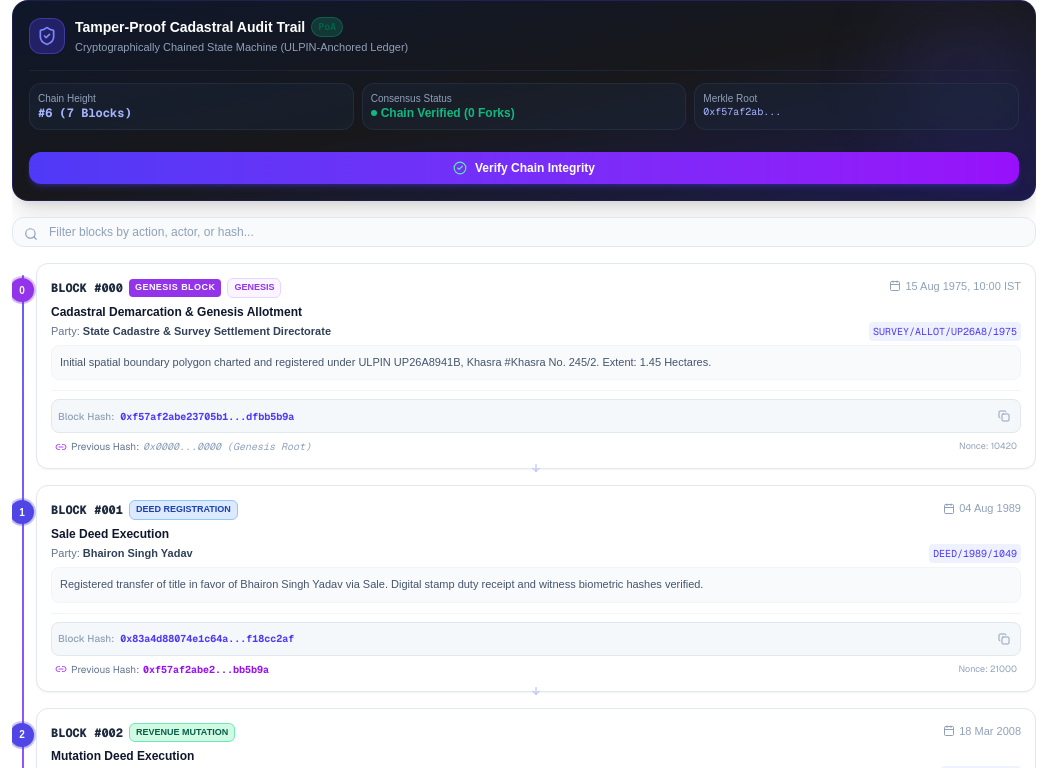
Scenario: UI Primitives: <LoadingState /> and <ErrorState /> › AuditTrailTab renders icon buttons with proper aria-labels and uses LoadingState during verification
Expected: the 1st button named "Copy Full Block Hash" is shown, 994,406 -> 1014,426
What coordinates should you click on to do the following:
click the button "Verify Chain Integrity"
I would click on:
 (524, 168)
Its box is 29,152 -> 1019,184.
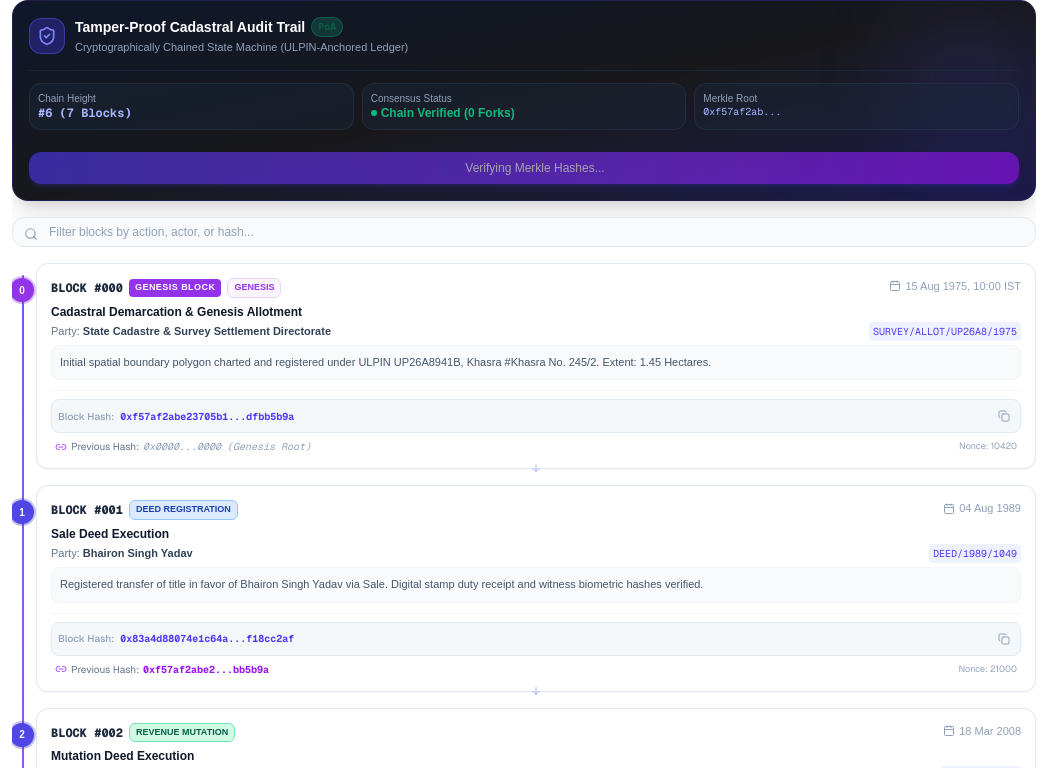
Expected: the message "Verifying Merkle Hashes..." is shown, 443,160 -> 605,176
Expected: the text "Verifying Merkle Hashes..." is shown, 465,160 -> 605,176
